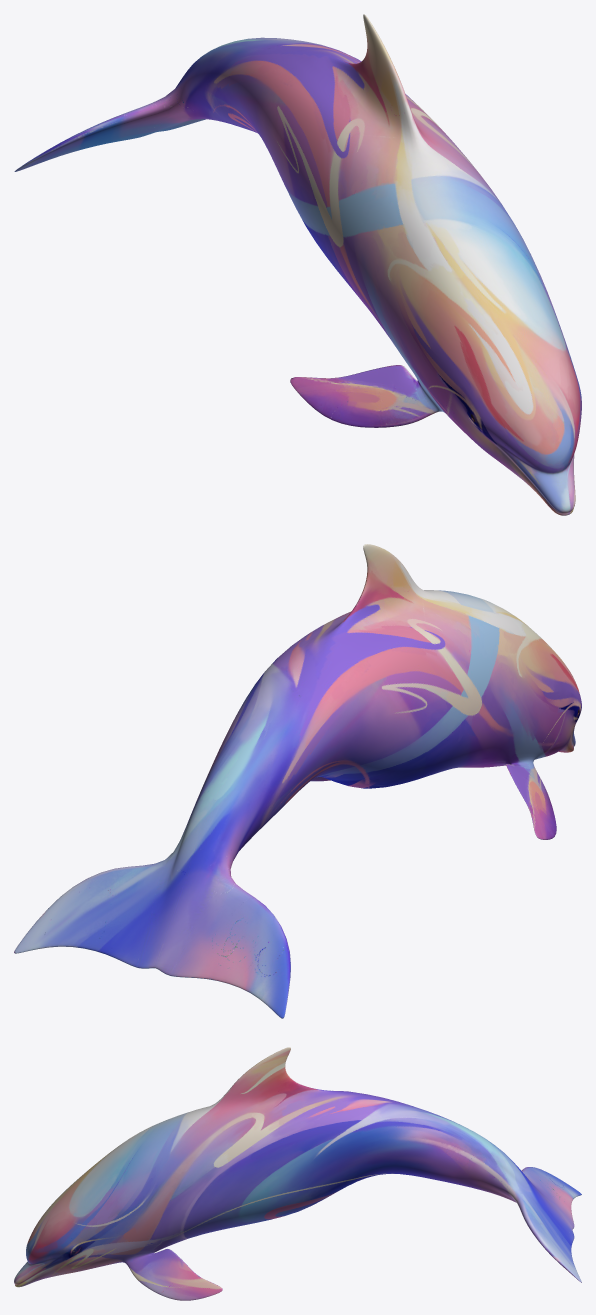
File: leo.glb
3 renders of one model, top to bottom at view 1: azimuth 30°, elevation 25°; view 2: azimuth 150°, elevation 25°; view 3: azimuth 270°, elevation 25°, orthographic. The views are drawn at different scales.
Visible parts, largest first — view 1: dolphin_01___Default; view 2: dolphin_01___Default; view 3: dolphin_01___Default.
Boxes of the visible parts, x1,y1,x2,y2 form: dolphin_01___Default: (14,14,581,515); dolphin_01___Default: (14,544,581,1018); dolphin_01___Default: (14,1047,581,1300).
Size of the model in its own units: 143 by 179 by 386.
1 material, 1 textured.
